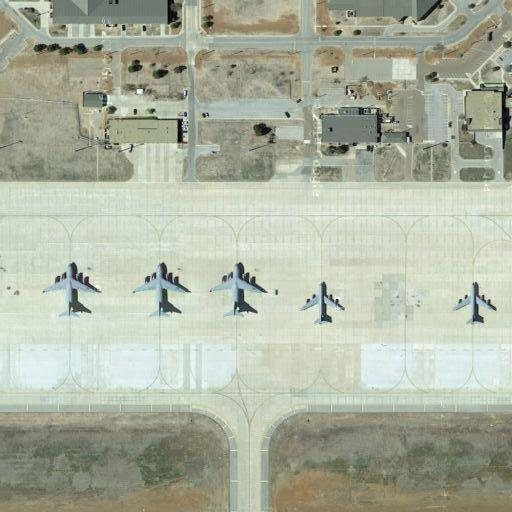C-17: (40, 255, 103, 320), (131, 258, 192, 323), (209, 260, 266, 321)
KC-135: (297, 279, 345, 327), (452, 278, 496, 329)
